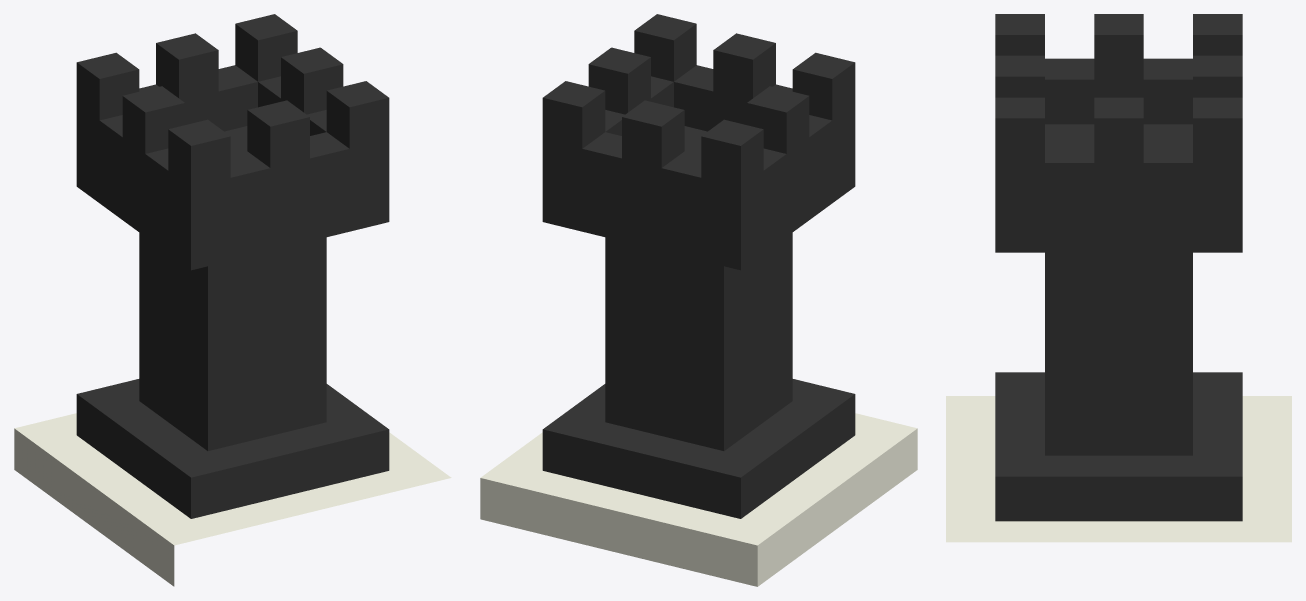
File: rook-w.glb
3 views of the same model, side by side, from view 1: azimuth 30°, elevation 25°; view 2: azimuth 150°, elevation 25°; view 3: azimuth 270°, elevation 25° (orthographic). The views are drawn at different scales.
Visible parts, largest first — view 1: root; view 2: root; view 3: root.
Part boxes in pixels (<box>): root: <box>14,14,451,586</box>; root: <box>480,14,917,586</box>; root: <box>946,14,1291,542</box>.
Size of the model in its own units: 1 by 1.43 by 1.
Materials: 1 (1 with a texture image).
